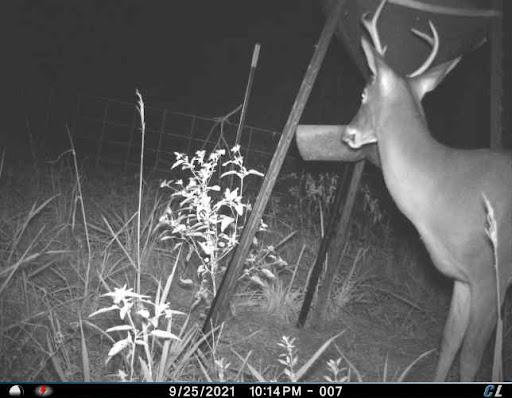Deer: (340, 0, 512, 380)
